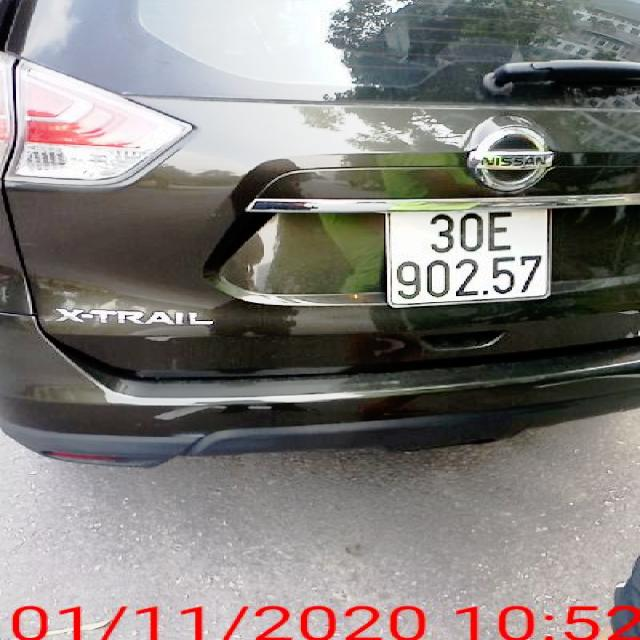license_plate: (391, 209, 548, 306)
